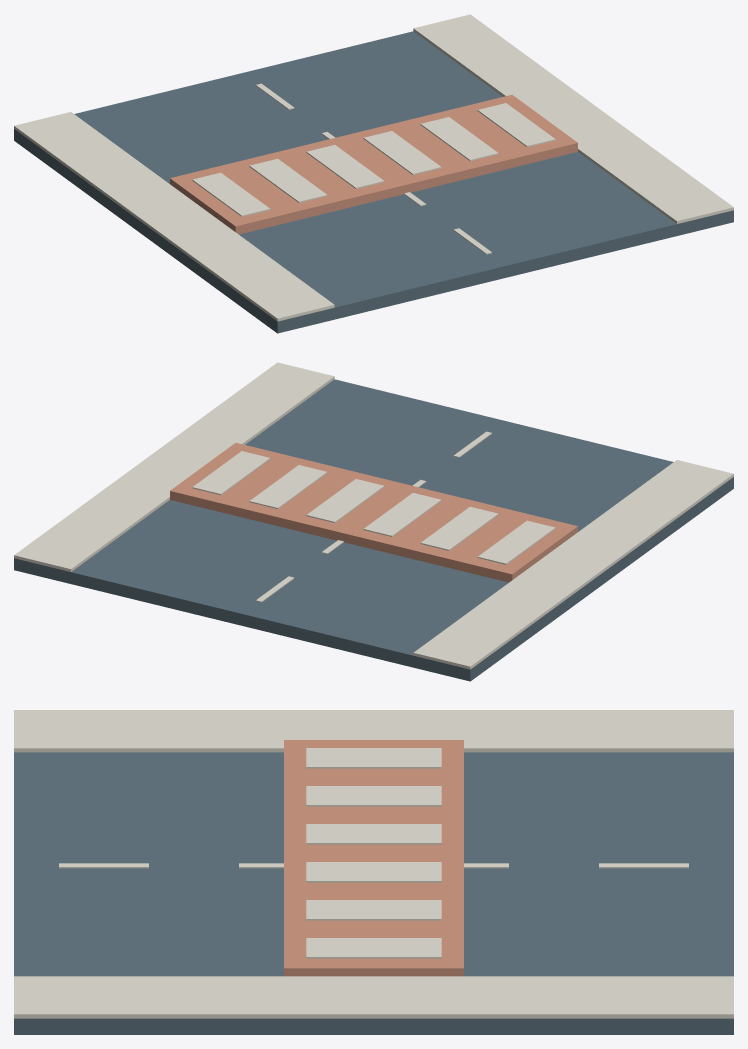
File: voxel-city-districts-road-speed-table-ba2bc6d9__24821.glb
The picture shows the model from 3 angles, top to bottom: view 1: azimuth 30°, elevation 25°; view 2: azimuth 150°, elevation 25°; view 3: azimuth 270°, elevation 25°; orthographic projection. The views are drawn at different scales.
Parts seen in each view (by area): view 1: road-speed-table-dark, road-speed-table-concrete, road-speed-table-brick; view 2: road-speed-table-dark, road-speed-table-concrete, road-speed-table-brick; view 3: road-speed-table-dark, road-speed-table-concrete, road-speed-table-brick.
Part boxes in pixels (x1=…): road-speed-table-dark: x1=14, y1=31, x2=733, y2=333; road-speed-table-concrete: x1=14, y1=14, x2=733, y2=321; road-speed-table-brick: x1=170, y1=95, x2=577, y2=234; road-speed-table-dark: x1=14, y1=379, x2=733, y2=681; road-speed-table-concrete: x1=14, y1=362, x2=733, y2=669; road-speed-table-brick: x1=170, y1=443, x2=577, y2=582; road-speed-table-dark: x1=14, y1=752, x2=733, y2=1034; road-speed-table-concrete: x1=14, y1=710, x2=733, y2=1018; road-speed-table-brick: x1=284, y1=740, x2=463, y2=976.
Bounding box in the file's own units: 8 × 0.3701 × 8.
